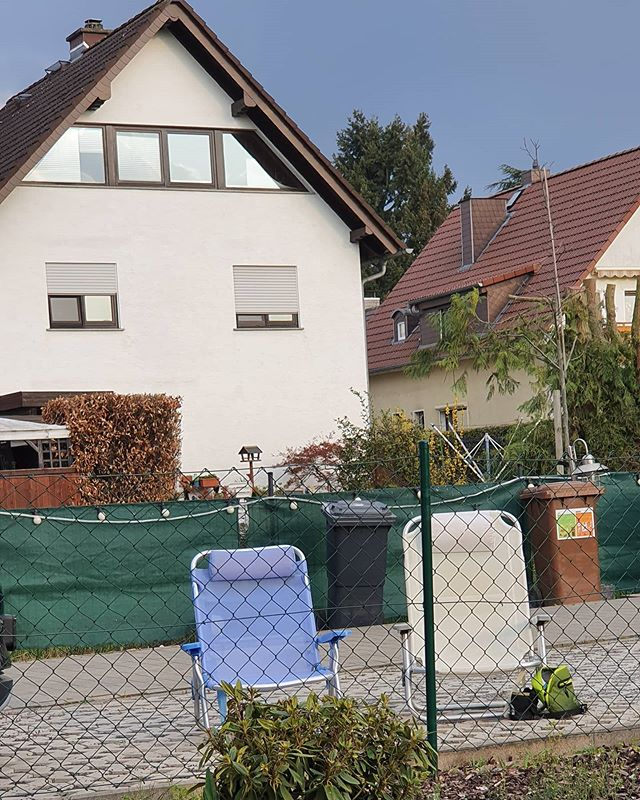building: (1, 20, 387, 480), (379, 153, 640, 448)
chair: (370, 502, 572, 735), (184, 549, 354, 726)
sky: (327, 1, 640, 158)
trash can: (516, 471, 607, 600), (323, 485, 399, 627)
tree: (445, 286, 640, 474), (328, 118, 443, 246)
